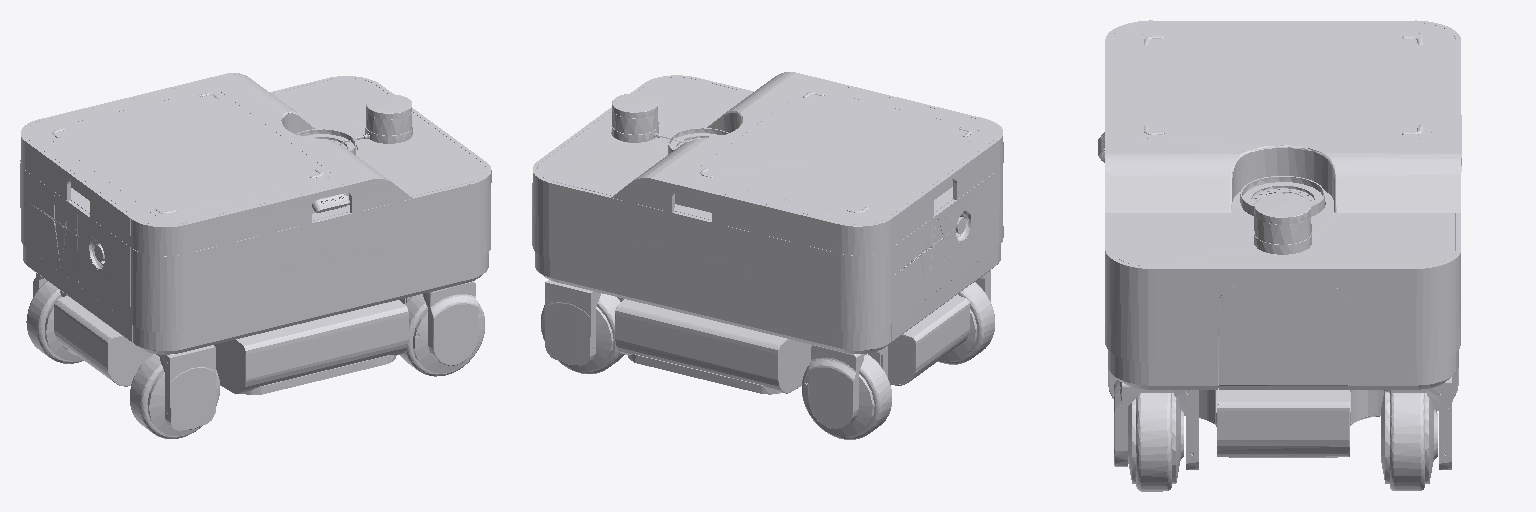
The robot description file, URDF, robot "custom_robots":
<?xml version="1.0" ?>
<robot name="custom_robots" version="1.0">
  <material name="black">
    <color rgba="0.0 0.0 0.0 1.0"/>
  </material>
  <material name="blue">
    <color rgba="0.0 0.0 0.8 1.0"/>
  </material>
  <material name="green">
    <color rgba="0.0 0.8 0.0 1.0"/>
  </material>
  <material name="grey_">
    <color rgba="0.2 0.2 0.2 1.0"/>
  </material>
  <material name="orange">
    <color rgba="1.0 0.423529411765 0.0392156862745 1.0"/>
  </material>
  <material name="brown">
    <color rgba="0.870588235294 0.811764705882 0.764705882353 1.0"/>
  </material>
  <material name="red">
    <color rgba="0.8 0.0 0.0 1.0"/>
  </material>
  <material name="white">
    <color rgba="1.0 1.0 1.0 1.0"/>
  </material>
  <material name="metal">
    <color rgba="0.76862745098 0.749019607843 0.729411764706 1.0"/>
  </material>
  <material name="metal_grey">
    <color rgba="0.501960784314 0.501960784314 0.501960784314 1.0"/>
  </material>
  <material name="metal_white">
    <color rgba="0.866666666667 0.866666666667 0.890196078431 1.0"/>
  </material>
  <link name="base_link"/>
  <joint name="kmb0_joint_base_link" type="fixed">
    <origin rpy="0.0 0.0 0.0" xyz="0.0 0.0 0.0"/>
    <parent link="base_link"/>
    <child link="kmb0_link0"/>
  </joint>
  <link name="kmb0_link0"/>
  <link name="kmb0_link1"/>
  <link name="kmb0_link2"/>
  <link name="kmb0_link3"/>
  <link name="kmb0_link4"/>
  <link name="kmb0_link5"/>
  <link name="kmb0_platform">
    <visual>
      <origin rpy="0.0 0.0 0.0" xyz="0.0 0.0 0.0"/>
      <geometry>
        <mesh filename="package://my_mesh/meshes/stl/mobile_ds_res.stl"/>
      </geometry>
      <material name="metal_white"/>
    </visual>
    <collision>
      <origin rpy="0.0 0.0 0.0" xyz="0.0 0.0 0.22"/>
      <geometry>
        <box size="1.0 0.75 0.438"/>
      </geometry>
    </collision>
    <collision>
      <origin rpy="0.0 0.0 0.0" xyz="-0.25 0.0 0.5"/>
      <geometry>
        <box size="0.5 0.75 0.2"/>
      </geometry>
    </collision>
  </link>
  <joint name="kmb0_joint0" type="prismatic">
    <origin rpy="0.0 0.0 0.0" xyz="0.0 0.0 0.0"/>
    <axis xyz="1.0 0.0 0.0"/>
    <parent link="kmb0_link0"/>
    <child link="kmb0_link1"/>
    <limit effort="10000.0" lower="-5.0" upper="5.0" velocity="1.0"/>
  </joint>
  <joint name="kmb0_joint1" type="prismatic">
    <origin rpy="0.0 0.0 0.0" xyz="0.0 0.0 0.0"/>
    <axis xyz="0.0 1.0 0.0"/>
    <parent link="kmb0_link1"/>
    <child link="kmb0_link2"/>
    <limit effort="10000.0" lower="-5.0" upper="5.0" velocity="1.0"/>
  </joint>
  <joint name="kmb0_joint2" type="continuous">
    <origin rpy="0.0 0.0 0.0" xyz="0.0 0.0 0.0"/>
    <axis xyz="0.0 0.0 1.0"/>
    <parent link="kmb0_link2"/>
    <child link="kmb0_link3"/>
    <limit effort="10000.0" lower="0" upper="0" velocity="1.5708"/>
  </joint>
  <joint name="kmb0_joint3" type="revolute">
    <origin rpy="0.0 0.0 0.0" xyz="0.0 0.0 0.0"/>
    <axis xyz="1.0 0.0 0.0"/>
    <parent link="kmb0_link3"/>
    <child link="kmb0_link4"/>
    <limit effort="0.0" lower="-0.001" upper="0.001" velocity="0.0"/>
  </joint>
  <joint name="kmb0_joint4" type="revolute">
    <origin rpy="0.0 0.0 0.0" xyz="0.0 0.0 0.0"/>
    <axis xyz="0.0 1.0 0.0"/>
    <parent link="kmb0_link4"/>
    <child link="kmb0_link5"/>
    <limit effort="0.0" lower="-0.001" upper="0.001" velocity="0.0"/>
  </joint>
  <joint name="kmb0_joint5" type="prismatic">
    <origin rpy="0.0 0.0 0.0" xyz="0.0 0.0 0.0"/>
    <axis xyz="0.0 0.0 1.0"/>
    <parent link="kmb0_link5"/>
    <child link="kmb0_platform"/>
    <limit effort="0.0" lower="-0.001" upper="0.001" velocity="0.0"/>
  </joint>
  <joint name="indy1_joint_kmb0_platform" type="fixed">
    <origin rpy="0.0 0.0 3.14159265359" xyz="0.172 0.0 0.439"/>
    <parent link="kmb0_platform"/>
    <child link="indy1_link0"/>
  </joint>
  <link name="indy1_link0">
    <inertial>
      <origin rpy="0.0 0.0 0.0" xyz="0.0 0.0 0.0"/>
      <mass value="1.59306955"/>
      <inertia ixx="0.00572623" ixy="2.51e-06" ixz="-0.0001138" iyy="0.00558959" iyz="-1.4e-07" izz="0.00966674"/>
    </inertial>
    <visual>
      <origin rpy="0.0 0.0 0.0" xyz="0.0 0.0 0.0"/>
      <geometry>
        <mesh filename="package://indy7_description/meshes/stl/Indy7_0.stl"/>
      </geometry>
      <material name="metal_white"/>
    </visual>
    <collision>
      <origin rpy="0.0 0.0 0.0" xyz="-0.1 0.0 0.05"/>
      <geometry>
        <box size="0.14 0.1 0.08"/>
      </geometry>
    </collision>
  </link>
  <link name="indy1_link1">
    <inertial>
      <origin rpy="0.0 0.0 0.0" xyz="0.0 0.0 0.0"/>
      <mass value="11.8030102"/>
      <inertia ixx="0.15418559" ixy="-2.35e-06" ixz="1.739e-05" iyy="0.12937017" iyz="-0.04854267" izz="0.05964415"/>
    </inertial>
    <visual>
      <origin rpy="0.0 0.0 0.0" xyz="0.0 0.0 0.0"/>
      <geometry>
        <mesh filename="package://indy7_description/meshes/stl/Indy7_1.stl"/>
      </geometry>
      <material name="metal_white"/>
    </visual>
    <collision>
      <origin rpy="0.0 0.0 0.0" xyz="0.0 0.0 0.0825"/>
      <geometry>
        <cylinder length="0.3" radius="0.1"/>
      </geometry>
    </collision>
  </link>
  <link name="indy1_link2">
    <inertial>
      <origin rpy="0.0 0.0 0.0" xyz="0.0 0.0 0.0"/>
      <mass value="7.99292141"/>
      <inertia ixx="0.2935698" ixy="-4e-07" ixz="1.441e-05" iyy="0.28094142" iyz="0.03727972" izz="0.03620609"/>
    </inertial>
    <visual>
      <origin rpy="0.0 0.0 0.0" xyz="0.0 0.0 0.0"/>
      <geometry>
        <mesh filename="package://indy7_description/meshes/stl/Indy7_2.stl"/>
      </geometry>
      <material name="metal_white"/>
    </visual>
    <collision>
      <origin rpy="1.57079632679 0.0 -1.57079632679" xyz="-0.225 0.0 0.09"/>
      <geometry>
        <cylinder length="0.5" radius="0.073"/>
      </geometry>
    </collision>
    <collision>
      <origin rpy="0.0 0.0 0.0" xyz="0.0 0.0 -0.01"/>
      <geometry>
        <cylinder length="0.3" radius="0.085"/>
      </geometry>
    </collision>
  </link>
  <link name="indy1_link3">
    <inertial>
      <origin rpy="0.0 0.0 0.0" xyz="0.0 0.0 0.0"/>
      <mass value="2.99134127"/>
      <inertia ixx="0.03424593" ixy="1.49e-06" ixz="7.24e-06" iyy="0.03406024" iyz="0.00186009" izz="0.00450477"/>
    </inertial>
    <visual>
      <origin rpy="0.0 0.0 0.0" xyz="0.0 0.0 0.0"/>
      <geometry>
        <mesh filename="package://indy7_description/meshes/stl/Indy7_3.stl"/>
      </geometry>
      <material name="metal_white"/>
    </visual>
    <collision>
      <origin rpy="0.0 0.0 0.0" xyz="0.0 0.0 0.03"/>
      <geometry>
        <cylinder length="0.25" radius="0.065"/>
      </geometry>
    </collision>
  </link>
  <link name="indy1_link4">
    <inertial>
      <origin rpy="0.0 0.0 0.0" xyz="0.0 0.0 0.0"/>
      <mass value="2.12317035"/>
      <inertia ixx="0.00670405" ixy="3.75e-06" ixz="1.5e-06" iyy="0.00279246" iyz="-0.00127967" izz="0.00619341"/>
    </inertial>
    <visual>
      <origin rpy="0.0 0.0 0.0" xyz="0.0 0.0 0.0"/>
      <geometry>
        <mesh filename="package://indy7_description/meshes/stl/Indy7_4.stl"/>
      </geometry>
      <material name="metal_white"/>
    </visual>
    <collision>
      <origin rpy="0.0 0.0 0.0" xyz="0.0 0.0 -0.092"/>
      <geometry>
        <cylinder length="0.4" radius="0.06"/>
      </geometry>
    </collision>
  </link>
  <link name="indy1_link5">
    <inertial>
      <origin rpy="0.0 0.0 0.0" xyz="0.0 0.0 0.0"/>
      <mass value="2.28865091"/>
      <inertia ixx="0.00994891" ixy="1.4e-07" ixz="3.21e-06" iyy="0.00978189" iyz="-0.00093546" izz="0.00271492"/>
    </inertial>
    <visual>
      <origin rpy="0.0 0.0 0.0" xyz="0.0 0.0 0.0"/>
      <geometry>
        <mesh filename="package://indy7_description/meshes/stl/Indy7_5.stl"/>
      </geometry>
      <material name="metal_white"/>
    </visual>
    <collision>
      <origin rpy="0.0 0.0 0.0" xyz="-0.0 0.0 -0.0225"/>
      <geometry>
        <cylinder length="0.23" radius="0.055"/>
      </geometry>
    </collision>
  </link>
  <link name="indy1_link6">
    <inertial>
      <origin rpy="0.0 0.0 0.0" xyz="0.0 0.0 0.0"/>
      <mass value="0.40083918"/>
      <inertia ixx="0.00043534" ixy="1.3e-07" ixz="-2e-08" iyy="0.00044549" iyz="5.1e-07" izz="0.00059634"/>
    </inertial>
    <visual>
      <origin rpy="0.0 0.0 0.0" xyz="0.0 0.0 0.0"/>
      <geometry>
        <mesh filename="package://indy7_description/meshes/stl/Indy7_6.stl"/>
      </geometry>
      <material name="metal_white"/>
    </visual>
    <collision>
      <origin rpy="0.0 0.0 0.0" xyz="0.0 0.0 -0.058"/>
      <geometry>
        <cylinder length="0.26" radius="0.06"/>
      </geometry>
    </collision>
  </link>
  <link name="indy1_tcp"/>
  <joint name="indy1_joint0" type="revolute">
    <origin rpy="0.0 0.0 0.0" xyz="0.0 0.0 0.0775"/>
    <axis xyz="0.0 0.0 1.0"/>
    <parent link="indy1_link0"/>
    <child link="indy1_link1"/>
    <limit effort="0.7853981633974483" lower="-2.09439510239" upper="2.09439510239" velocity="0.6544984694978736"/>
  </joint>
  <joint name="indy1_joint1" type="revolute">
    <origin rpy="1.57079632679 1.57079632679 0.0" xyz="0.0 -0.109 0.222"/>
    <axis xyz="0.0 0.0 1.0"/>
    <parent link="indy1_link1"/>
    <child link="indy1_link2"/>
    <limit effort="0.7853981633974483" lower="-1.57079632679" upper="1.57079632679" velocity="0.6544984694978736"/>
  </joint>
  <joint name="indy1_joint2" type="revolute">
    <origin rpy="0.0 0.0 0.0" xyz="-0.45 0.0 -0.0305"/>
    <axis xyz="0.0 0.0 1.0"/>
    <parent link="indy1_link2"/>
    <child link="indy1_link3"/>
    <limit effort="0.7853981633974483" lower="-3.05432619099" upper="3.05432619099" velocity="0.6544984694978736"/>
  </joint>
  <joint name="indy1_joint3" type="revolute">
    <origin rpy="-1.57079632679 0.0 1.57079632679" xyz="-0.267 0.0 -0.075"/>
    <axis xyz="0.0 0.0 1.0"/>
    <parent link="indy1_link3"/>
    <child link="indy1_link4"/>
    <limit effort="0.7853981633974483" lower="-3.05432619099" upper="3.05432619099" velocity="0.7853981633974483"/>
  </joint>
  <joint name="indy1_joint4" type="revolute">
    <origin rpy="1.57079632679 1.57079632679 0.0" xyz="0.0 -0.114 0.083"/>
    <axis xyz="0.0 0.0 1.0"/>
    <parent link="indy1_link4"/>
    <child link="indy1_link5"/>
    <limit effort="0.7853981633974483" lower="-3.05432619099" upper="3.05432619099" velocity="0.7853981633974483"/>
  </joint>
  <joint name="indy1_joint5" type="revolute">
    <origin rpy="-1.57079632679 0.0 1.57079632679" xyz="-0.168 0.0 0.069"/>
    <axis xyz="0.0 0.0 1.0"/>
    <parent link="indy1_link5"/>
    <child link="indy1_link6"/>
    <limit effort="0.7853981633974483" lower="-3.75245789179" upper="3.75245789179" velocity="0.7853981633974483"/>
  </joint>
  <joint name="indy1_tcp" type="fixed">
    <origin rpy="0.0 0.0 0.0" xyz="0.0 0.0 0.06"/>
    <parent link="indy1_link6"/>
    <child link="indy1_tcp"/>
  </joint>
</robot>

--- Facts derived from the render (not from the file) ---
Views: 3 orthographic renders of the robot side by side, from view 1: azimuth 30°, elevation 25°; view 2: azimuth 150°, elevation 25°; view 3: azimuth 270°, elevation 25°.
Robot: custom_robots — 16 links, 15 joints (8 revolute, 1 continuous, 3 prismatic, 3 fixed); root link base_link; default pose: every joint at zero.
Visible links, largest first — view 1: kmb0_platform; view 2: kmb0_platform; view 3: kmb0_platform.
Boxes of the visible links, left/top/right/bottom form: kmb0_platform: left=20, top=73, right=491, bottom=438; kmb0_platform: left=532, top=72, right=1003, bottom=439; kmb0_platform: left=1098, top=20, right=1461, bottom=491.
Bounding box of the posed robot: 0.89 × 0.6419 × 0.5501 m (x, y, z).
Meshes: 8 distinct files referenced, 1 mesh visuals loaded (1 binary STL); not drawn: 7 (reference not matched to a file when rendering).